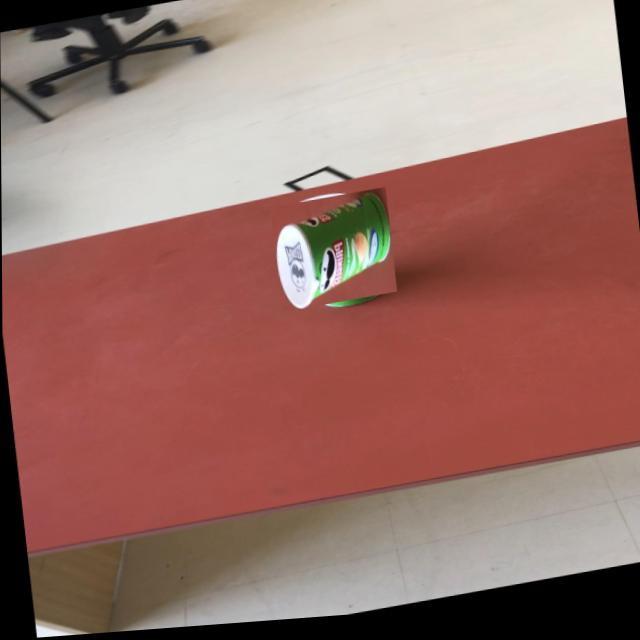a pringles: (271, 190, 395, 320)
